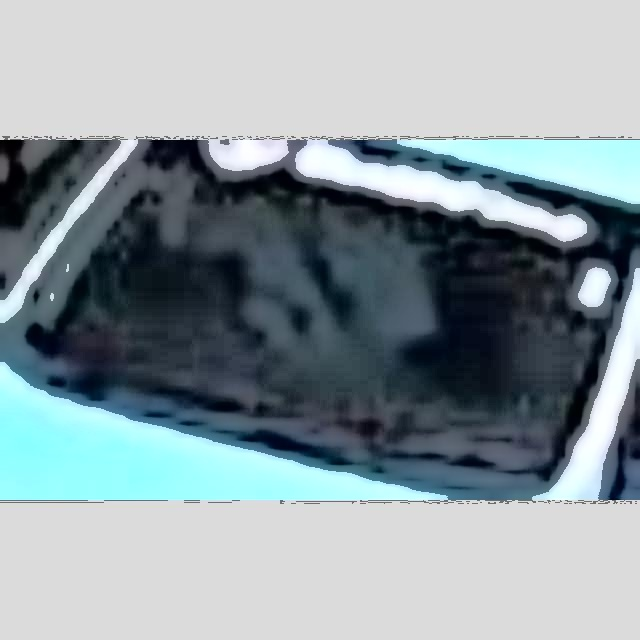pakai: (208, 172, 448, 364)
